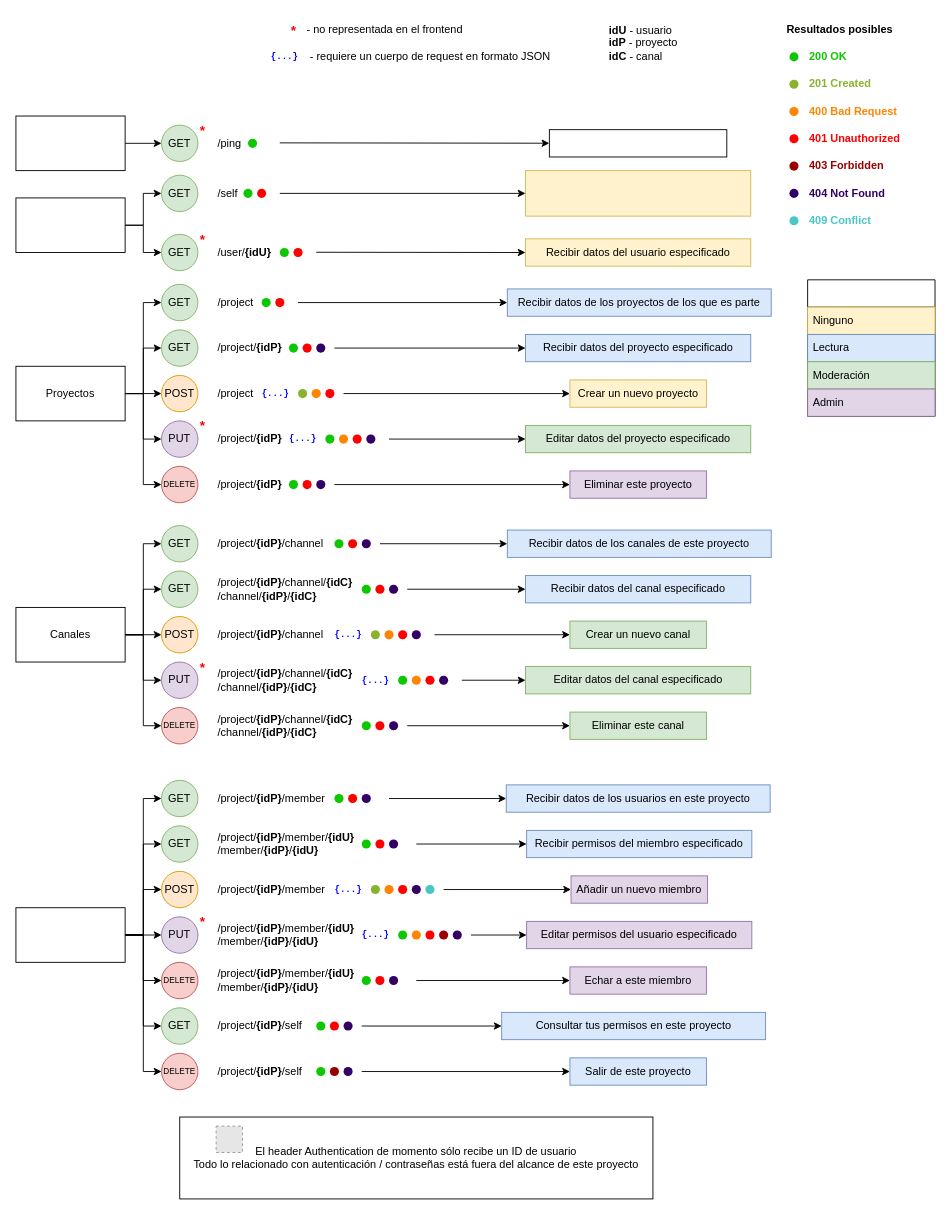
This 951x1215 diagram has some shape labels left out. Grey dashed boxes stand in for pictures. The box of each missing label's shape, as (x1, y1, x2, y2) in pixels:
Miembros: (15, 907, 125, 962)
Permisos requeridos: (807, 279, 935, 416)
Pruebas: (15, 115, 125, 171)
Recibir datos del usuario con el que el usuario se ha autenticado: (525, 170, 751, 216)
Siempre devuelve "¡Pong!": (548, 129, 727, 157)
Usuarios: (15, 197, 125, 253)
